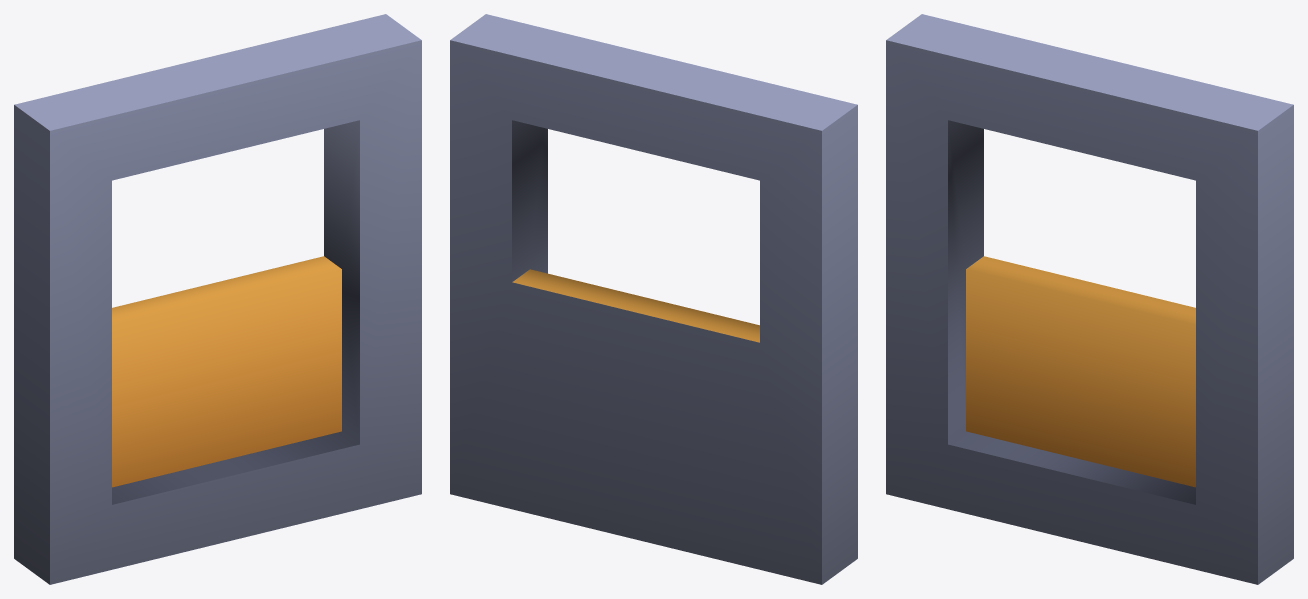
Rendered from door-double-half.glb.
3 renders of one model, left to right at view 1: azimuth 30°, elevation 25°; view 2: azimuth 150°, elevation 25°; view 3: azimuth 330°, elevation 25°, orthographic.
Parts seen in each view (by area): view 1: door-double-half; view 2: door-double-half; view 3: door-double-half.
Boxes of the visible parts, x1,y1,x2,y2 form: door-double-half: [14, 14, 421, 584]; door-double-half: [450, 14, 857, 584]; door-double-half: [886, 14, 1293, 584].
Bounding box in the file's own units: 0.6 × 0.7 × 0.1.
